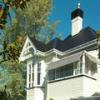chimneys: (71, 2, 83, 36)
